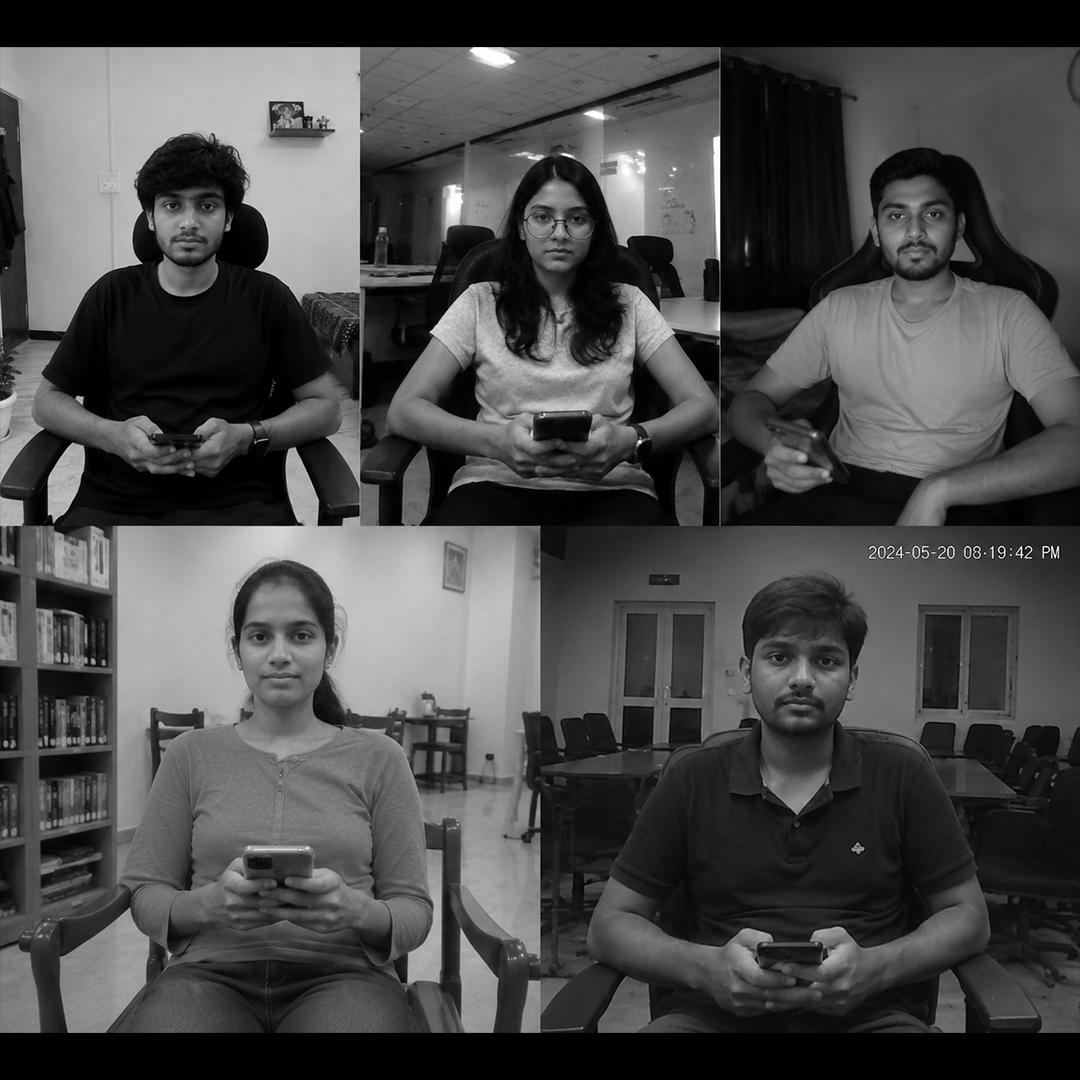Focused: (87, 538, 439, 967), (36, 74, 325, 485), (676, 527, 908, 1017), (762, 81, 1010, 503), (459, 88, 704, 432)
